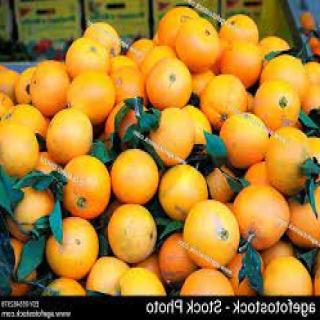orange: (56, 149, 110, 217), (144, 99, 192, 173), (143, 53, 190, 117), (104, 155, 160, 202)
